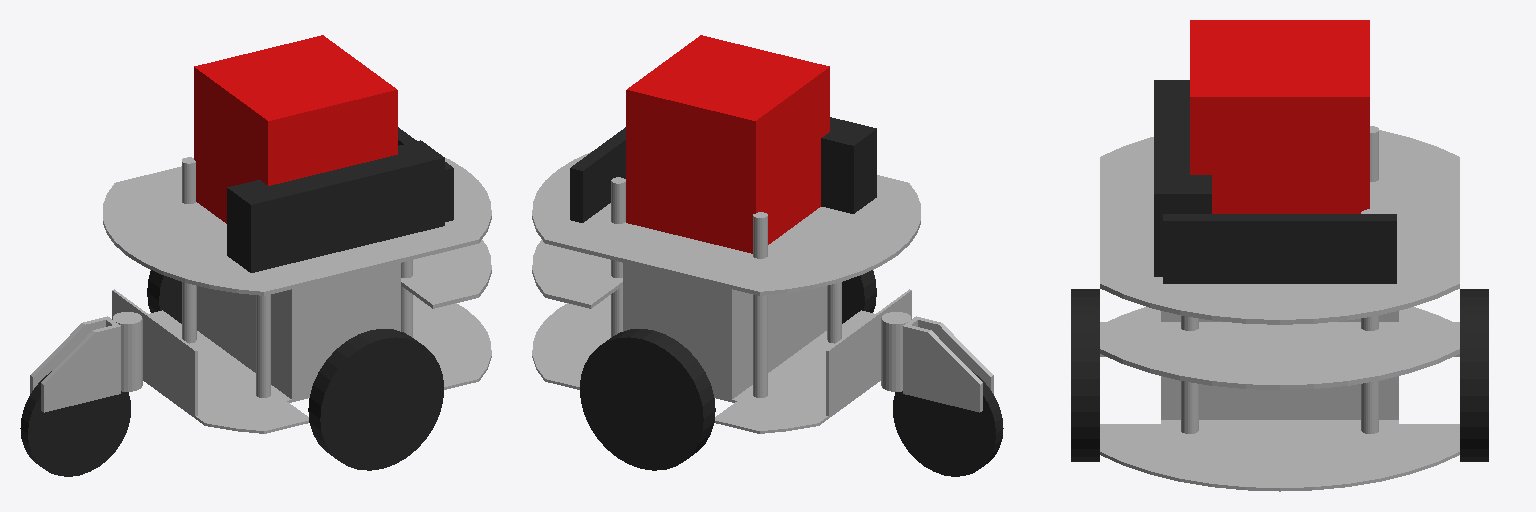
robot.urdf — mobilerobot:
<?xml version="1.0" ?>
<robot name="mobilerobot">
  <material name="black">
    <color rgba="0.2 0.2 0.2 1"/>
  </material>
  <material name="grey">
    <color rgba="0.75 0.75 0.75 1"/>
  </material>
  <link name="base_link">
    <visual>
      <geometry>
        <mesh filename="package://mobile_robot_description/meshes/raspi_mouse_body.stl"/>
      </geometry>
      <material name="grey"/>
      <origin xyz="-0.041 -0.05 -0.02575" rpy="0 0 0"/>
    </visual>
    <visual name="regulators">
      <geometry>
        <box size="0.005 0.065 0.02"/>
      </geometry>
      <origin xyz="0.04 0 0.036" rpy="0 0 0"/>
      <material name="black"/>
    </visual>
    <visual name="connector">
      <geometry>
        <box size="0.075 0.016 0.026"/>
      </geometry>
      <origin xyz="0 -0.027 0.039" rpy="0 0 0"/>
      <material name="black"/>
    </visual>
    <collision>
      <geometry>
        <box size="0.13 0.1 0.078"/>
      </geometry>
      <origin xyz="0 0 0.013" rpy="0 0 0"/>
    </collision>
    <inertial>
      <origin xyz="0 0 0.013" rpy="0 0 0"/>
      <mass value="0.25"/>
      <inertia ixx="0.0003350833" ixy="0" ixz="0"
        iyy="0.000560417" iyz="0"
        izz="0.000478833"/>
    </inertial>
  </link>

  <link name="caster_support">
    <visual>
      <geometry>
        <mesh filename="package://mobile_robot_description/meshes/mobile_robot_caster.stl"/>
      </geometry>
      <origin xyz="0 0 0" rpy="0 0 0"/>
      <material name="grey"/>
    </visual>
    <collision>
      <geometry>
        <box size="0.04 0.009 0.025"/>
      </geometry>
      <origin xyz="-0.015 0 0" rpy="0 0 0"/>
    </collision>
    <inertial>
      <origin xyz="-0.009725 0 -0.00097398" rpy="0 0 0"/>
      <mass value="0.1"/>
      <inertia ixx="2.677264e-5" ixy="0" ixz="0"
        iyy="7.476213e-5" iyz="0"
        izz="5.655266e-5"/>
    </inertial>
  </link>

  <joint name="caster_support_joint" type="continuous">
    <axis xyz="0 0 1"/>
    <parent link="base_link"/>
    <child link="caster_support"/>
    <origin xyz="-0.065 0 -0.01" rpy="0 0 0"/>
  </joint>

  <link name="caster_wheel">
    <visual>
      <geometry>
        <cylinder length="0.005" radius="0.02"/>
      </geometry>
      <material name="black"/>
    </visual>
    <collision>
      <geometry>
        <cylinder length="0.005" radius="0.02"/>
      </geometry>
    </collision>
    <inertial>
      <mass value="0.1"/>
      <inertia ixx="1.02083e-5" ixy="0" ixz="0"
        iyy="1.02083e-5" iyz="0"
        izz="2e-5"/>
    </inertial>
  </link>

  <joint name="caster_wheel_joint" type="continuous">
    <axis xyz="0 0 1"/>
    <parent link="caster_support"/>
    <child link="caster_wheel"/>
    <origin xyz="-0.02 0 -0.02" rpy="-1.5708 0 0"/>
  </joint>

  <link name="right_wheel">
    <visual>
      <geometry>
        <cylinder length="0.008" radius="0.024"/>
      </geometry>
      <material name="black"/>
    </visual>
    <collision>
      <geometry>
        <cylinder length="0.008" radius="0.024"/>
      </geometry>
    </collision>
    <inertial>
      <mass value="0.1"/>
      <inertia ixx="1.49333e-5" ixy="0" ixz="0"
        iyy="1.49333e-5" iyz="0"
        izz="2.88e-5"/>
    </inertial>
  </link>

  <joint name="right_wheel_joint" type="continuous">
    <axis xyz="0 0 1"/>
    <parent link="base_link"/>
    <child link="right_wheel"/>
    <origin xyz="0 0.054 -0.021" rpy="-1.5708 0 0"/>
  </joint>

  <link name="left_wheel">
    <visual>
      <geometry>
        <cylinder length="0.008" radius="0.024"/>
      </geometry>
      <material name="black"/>
    </visual>
    <collision>
      <geometry>
        <cylinder length="0.008" radius="0.024"/>
      </geometry>
    </collision>
    <inertial>
      <mass value="0.1"/>
      <inertia ixx="1.49333e-5" ixy="0" ixz="0"
        iyy="1.49333e-5" iyz="0"
        izz="2.88e-5"/>
    </inertial>
  </link>

  <joint name="left_wheel_joint" type="continuous">
    <axis xyz="0 0 1"/>
    <parent link="base_link"/>
    <child link="left_wheel"/>
    <origin xyz="0 -0.054 -0.021" rpy="-1.5708 0 0"/>
  </joint>

  <link name="laser">
    <visual>
      <geometry>
        <box size="0.05 0.05 0.05"/>
      </geometry>
      <material name="red">
        <color rgba="0.9 0.1 0.1 1"/>
      </material>
    </visual>
    <collision>
      <geometry>
        <box size="0.05 0.05 0.05"/>
      </geometry>
    </collision>
    <inertial>
      <mass value="0.6"/>
      <inertia ixx="1e-3" ixy="0" ixz="0"
        iyy="1e-3" iyz="0"
        izz="1e-3"/>
    </inertial>
  </link>

  <joint name="laser_joint" type="fixed">
    <parent link="base_link"/>
    <child link="laser"/>
    <origin xyz="0 0 0.051" rpy="0 0 0"/>
  </joint>
</robot>

--- Render facts (derived) ---
The picture shows the robot from 3 angles, left to right: view 1: azimuth 30°, elevation 25°; view 2: azimuth 150°, elevation 25°; view 3: azimuth 270°, elevation 25°; orthographic projection.
Model mobilerobot with 6 links and 5 joints (4 continuous, 1 fixed), rooted at base_link, posed all joints at 0.
Visible links, largest first — view 1: base_link, laser, left_wheel, caster_support, caster_wheel, right_wheel; view 2: base_link, laser, right_wheel, caster_support, caster_wheel, left_wheel; view 3: base_link, laser, right_wheel, left_wheel.
Link boxes in pixels (x1,y1,x2,y2): base_link: (103, 127, 491, 433); laser: (194, 35, 397, 223); left_wheel: (308, 329, 443, 470); caster_support: (30, 312, 142, 412); caster_wheel: (20, 371, 130, 476); right_wheel: (147, 270, 181, 323); base_link: (532, 117, 920, 433); laser: (626, 35, 829, 253); right_wheel: (580, 329, 715, 470); caster_support: (881, 312, 993, 412); caster_wheel: (893, 371, 1003, 476); left_wheel: (842, 270, 876, 323); base_link: (1100, 80, 1459, 491); laser: (1190, 20, 1369, 213); right_wheel: (1460, 289, 1488, 461); left_wheel: (1071, 289, 1099, 461).
Size in the robot's own frame: 0.171 by 0.116 by 0.126 metres.
Meshes: 2 distinct files referenced, 2 mesh visuals loaded (2 binary STL).